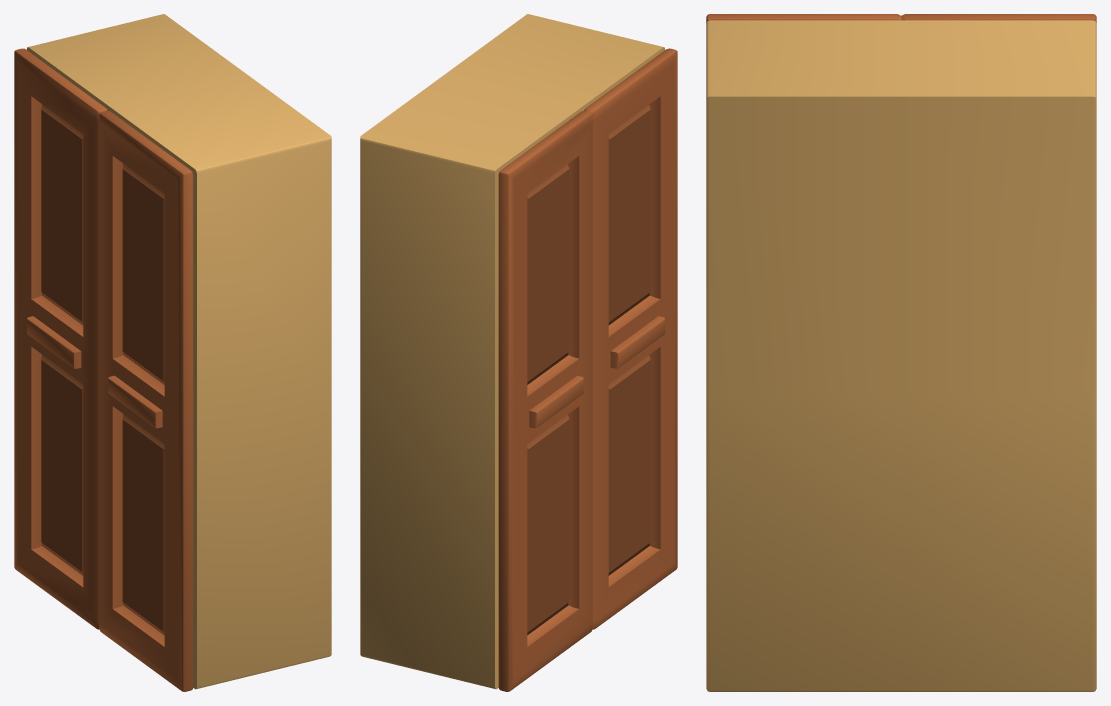
The model's file is MP_Cupboard.fbx.
3 views of the same model, side by side, from view 1: azimuth 30°, elevation 25°; view 2: azimuth 150°, elevation 25°; view 3: azimuth 270°, elevation 25° (orthographic). The views are drawn at different scales.
Visible parts, largest first — view 1: Cupboard_Body; view 2: Cupboard_Body; view 3: Cupboard_Body.
Boxes of the visible parts, x1=… form: Cupboard_Body: x1=14, y1=14, x2=331, y2=691; Cupboard_Body: x1=360, y1=14, x2=677, y2=691; Cupboard_Body: x1=706, y1=14, x2=1096, y2=691.
Bounding box in the file's own units: 44.58 × 141 × 83.41.
